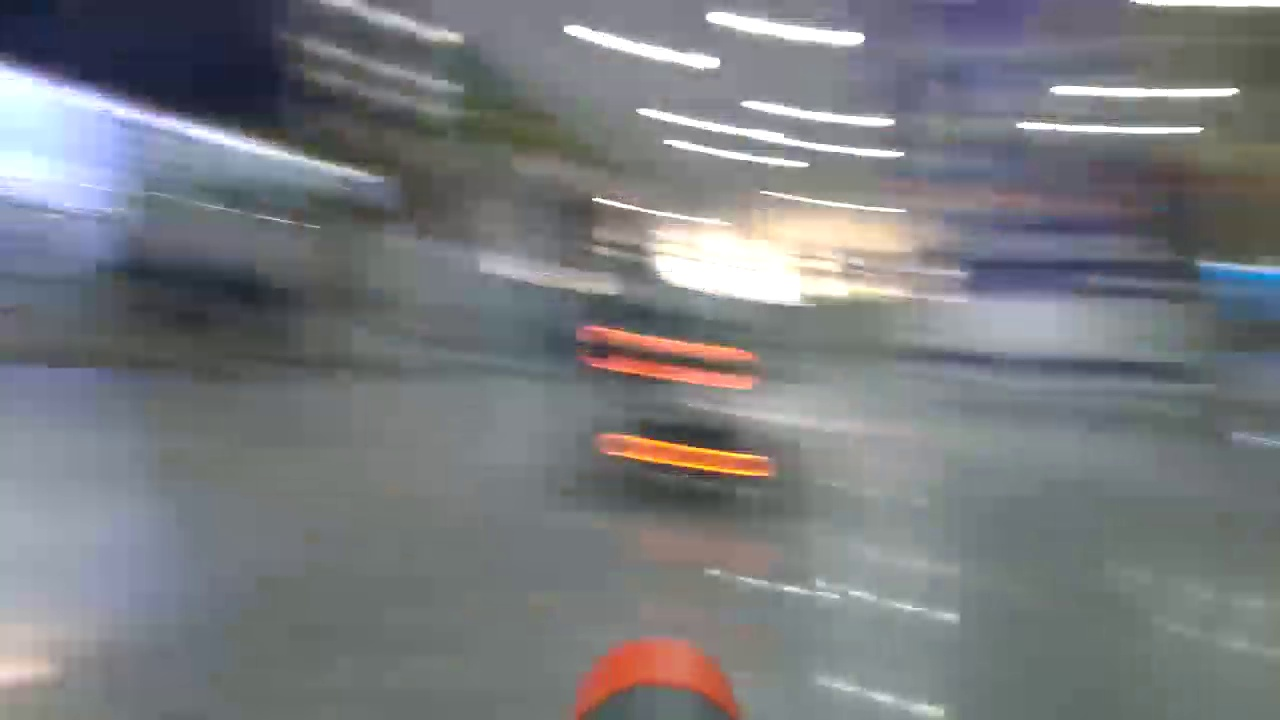robot: (556, 299, 802, 522)
